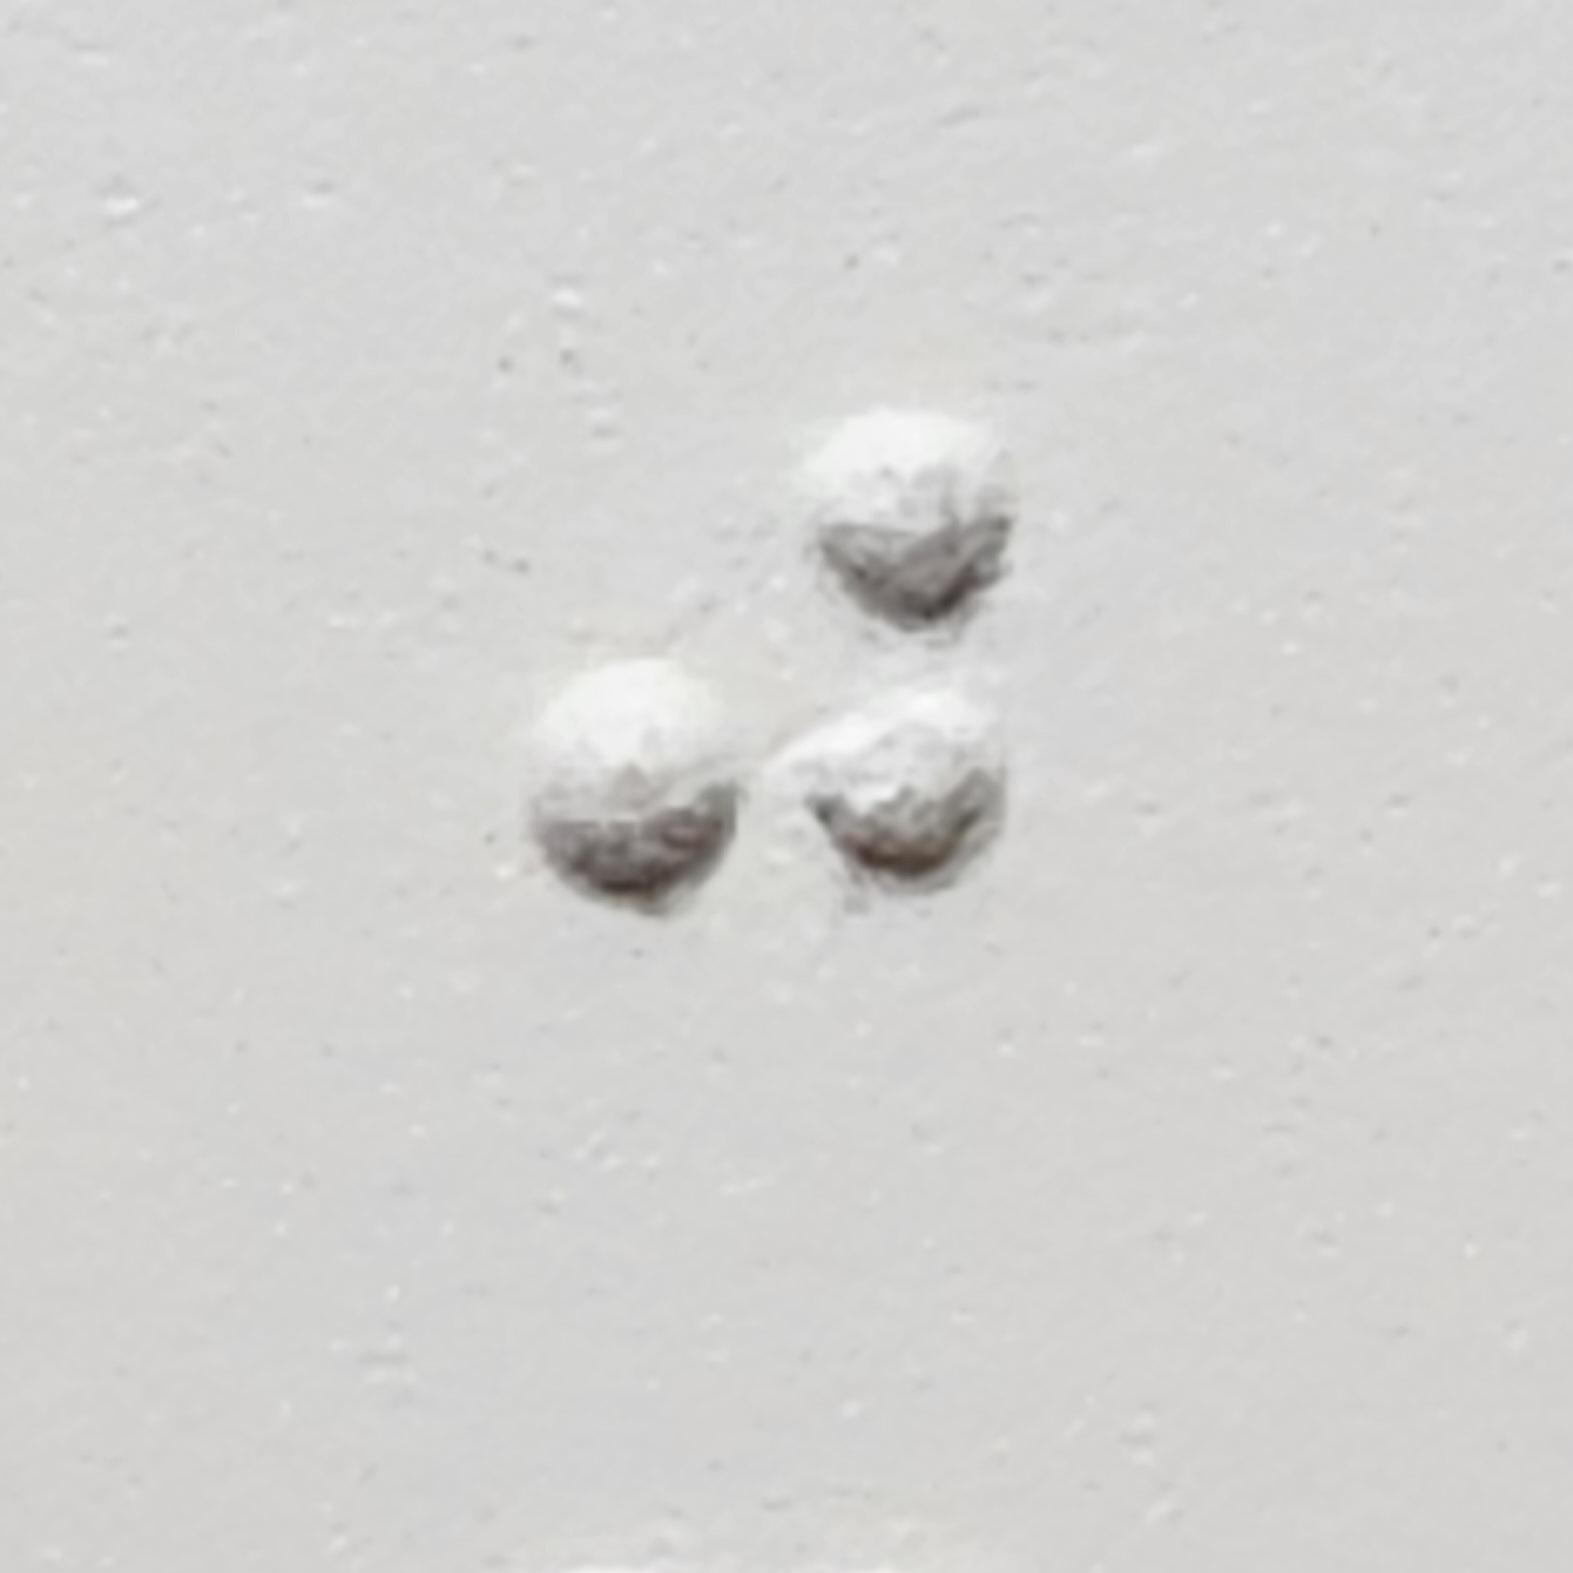letter_j: (520, 403, 1013, 1204)
